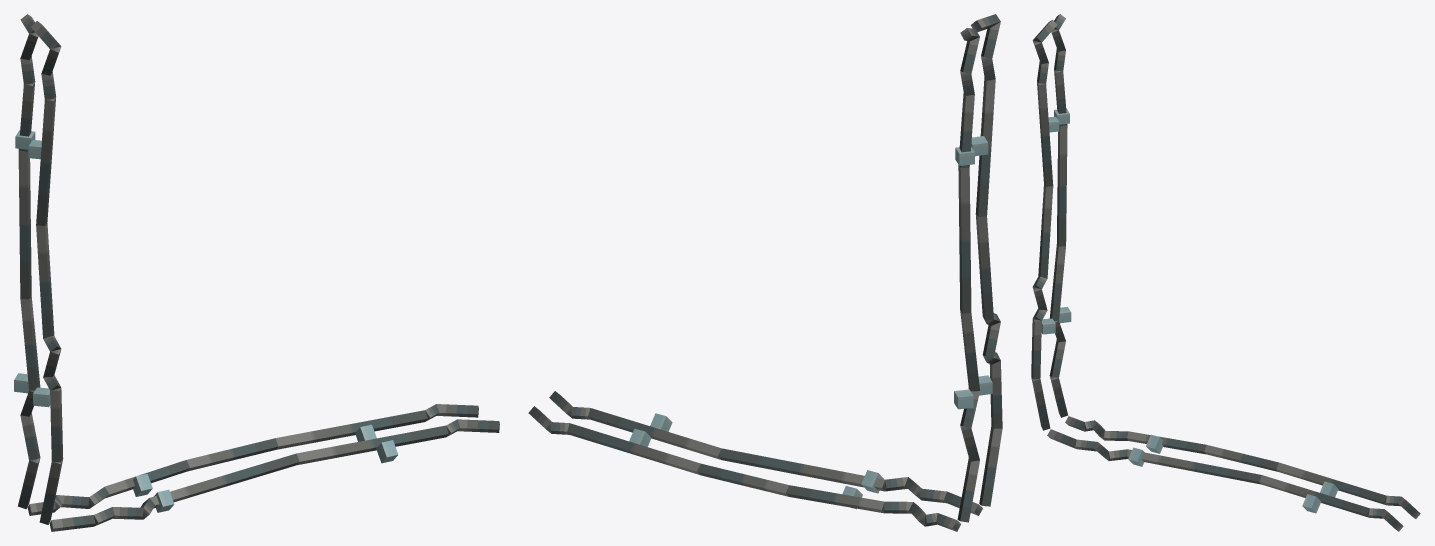
The model's file is pz_native_electrical_195.obj.
3 views of the same model, side by side, from view 1: azimuth 30°, elevation 25°; view 2: azimuth 150°, elevation 25°; view 3: azimuth 330°, elevation 25° (orthographic). The views are drawn at different scales.
Parts seen in each view (by area): view 1: conduit, conduit_end; view 2: conduit, conduit_end; view 3: conduit, conduit_end.
Boxes of the visible parts, <box> form: conduit: <box>14,14,499,531</box>; conduit_end: <box>14,30,499,531</box>; conduit: <box>528,14,1002,531</box>; conduit_end: <box>546,20,993,531</box>; conduit: <box>1031,14,1419,527</box>; conduit_end: <box>1031,27,1420,531</box>.
Size of the model in its own units: 0.9629 by 1.03 by 0.1707.
1 material, 1 textured.
